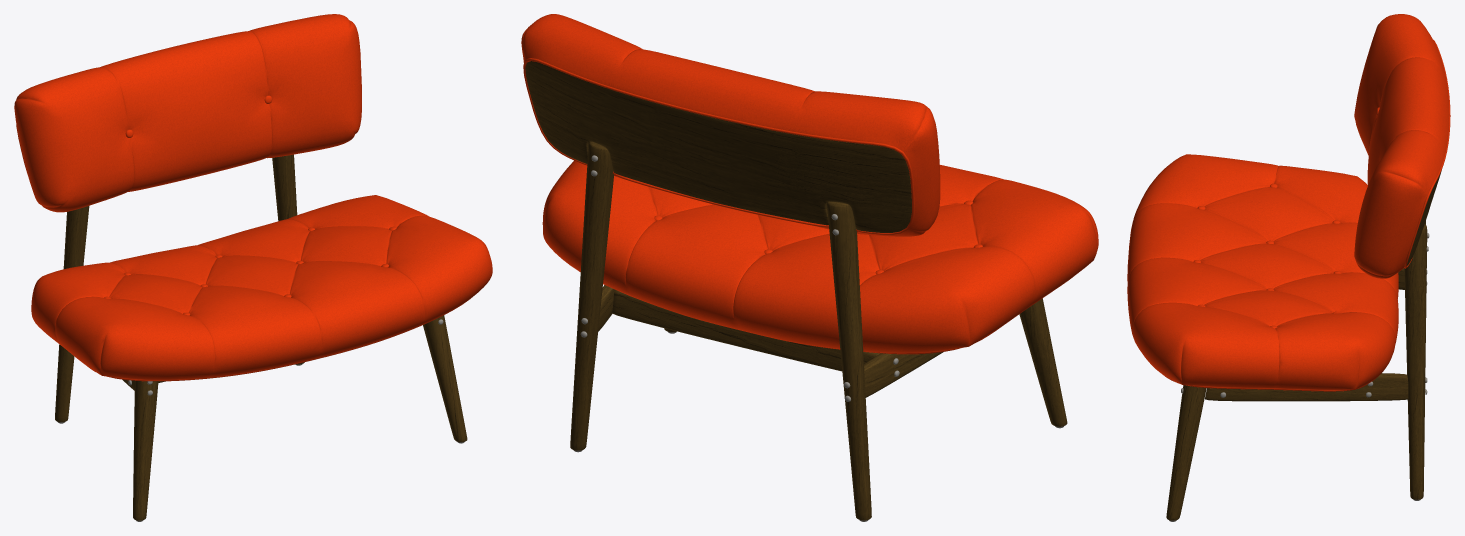
Rendered from sheen-chair.glb.
The picture shows the model from 3 angles, left to right: view 1: azimuth 30°, elevation 25°; view 2: azimuth 150°, elevation 25°; view 3: azimuth 270°, elevation 25°; orthographic projection. The views are drawn at different scales.
Visible parts, largest first — view 1: SheenChair_fabric, SheenChair_wood; view 2: SheenChair_fabric, SheenChair_wood; view 3: SheenChair_fabric, SheenChair_wood.
Part boxes in pixels (<box>): SheenChair_fabric: <box>14,14,492,381</box>; SheenChair_wood: <box>55,154,467,520</box>; SheenChair_fabric: <box>521,14,1098,354</box>; SheenChair_wood: <box>525,61,1067,520</box>; SheenChair_fabric: <box>1127,14,1450,391</box>; SheenChair_wood: <box>1166,170,1441,520</box>.
Bounding box in the file's own units: 0.8266 × 0.6863 × 0.5702.
4 materials, 3 textured.
